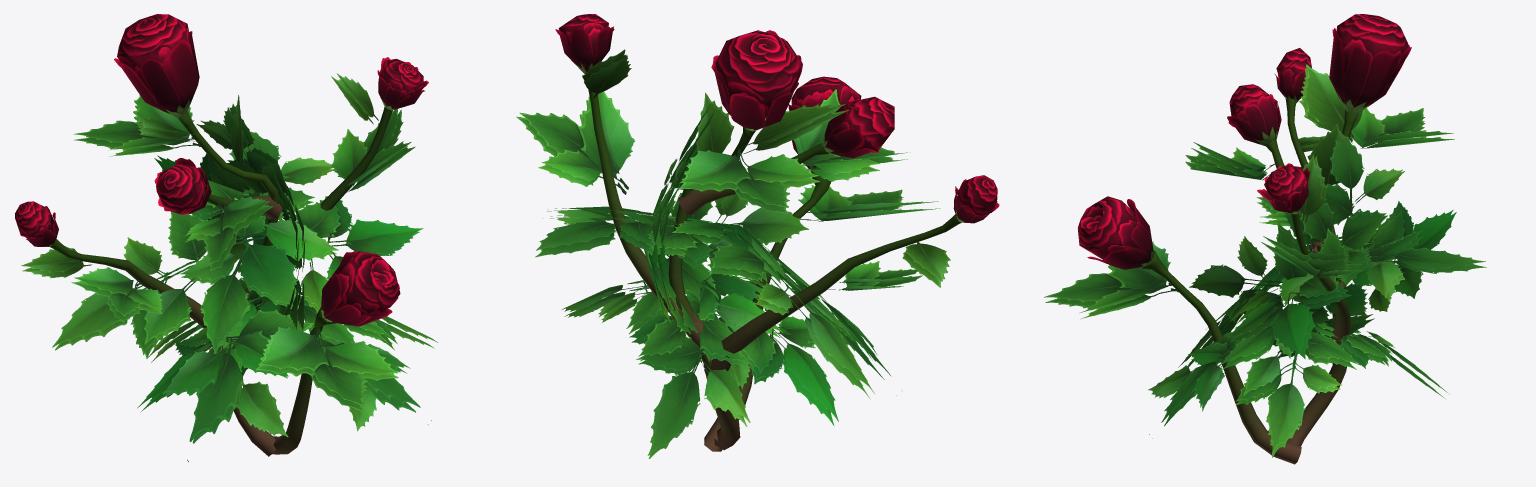
The model's file is SE_Rose_04.fbx.
3 views of the same model, side by side, from view 1: azimuth 30°, elevation 25°; view 2: azimuth 150°, elevation 25°; view 3: azimuth 270°, elevation 25° (orthographic). The views are drawn at different scales.
Visible parts, largest first — view 1: SE_Rose_04; view 2: SE_Rose_04; view 3: SE_Rose_04.
Boxes of the visible parts, bbox=[...] form: SE_Rose_04: bbox=[15, 14, 437, 462]; SE_Rose_04: bbox=[516, 14, 999, 458]; SE_Rose_04: bbox=[1044, 14, 1486, 464].
Bounding box in the file's own units: 2.92 × 2.74 × 2.99.
